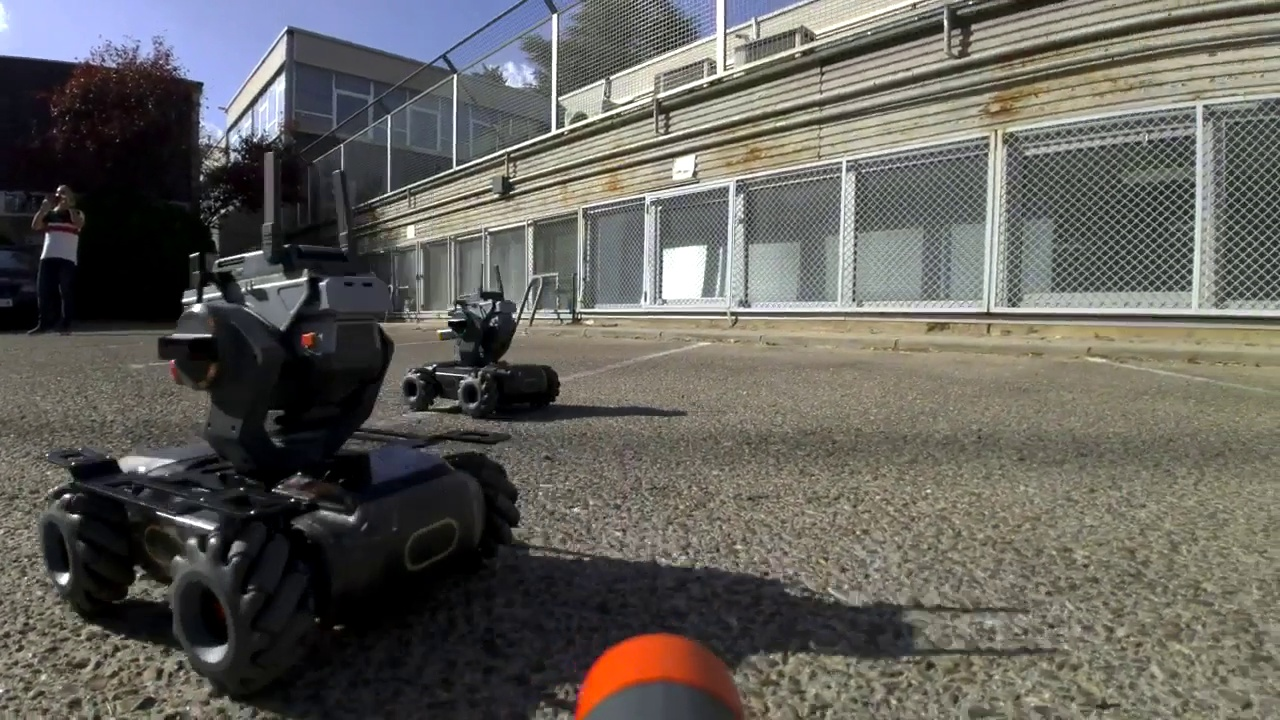robot: (37, 149, 523, 691), (403, 261, 562, 413)
